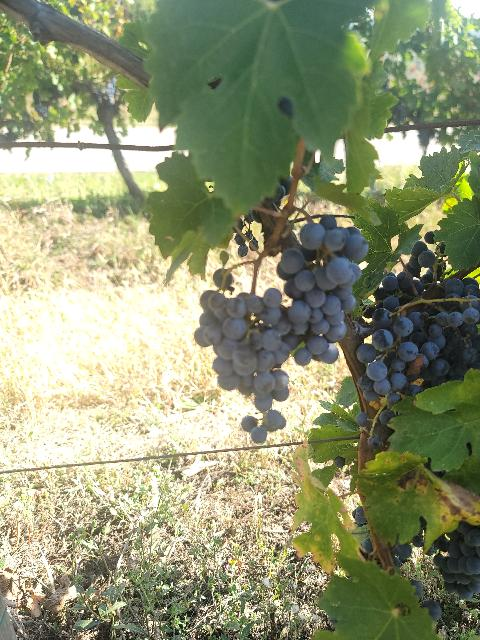grapes: (194, 289, 291, 444), (279, 216, 369, 365)
